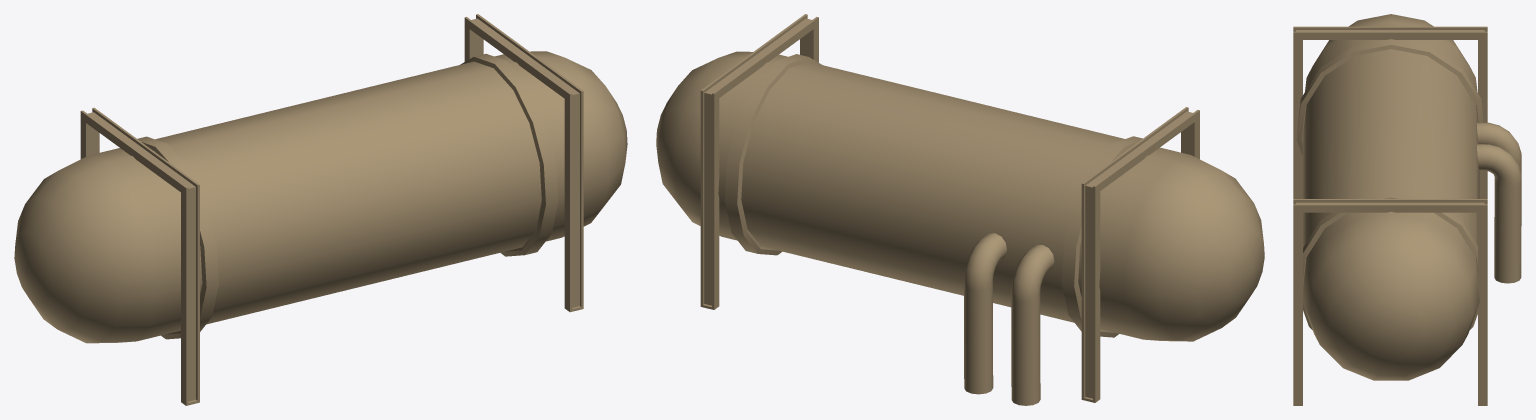
File: DamPropTankSide3.fbx
The picture shows the model from 3 angles, left to right: view 1: azimuth 30°, elevation 25°; view 2: azimuth 150°, elevation 25°; view 3: azimuth 270°, elevation 25°; orthographic projection. The views are drawn at different scales.
Parts seen in each view (by area): view 1: TankSideThree; view 2: TankSideThree; view 3: TankSideThree.
Part boxes in pixels (box(x1,y1,x2,y2)): TankSideThree: box(14, 14, 627, 405); TankSideThree: box(656, 14, 1264, 405); TankSideThree: box(1293, 14, 1521, 405).
Bounding box in the file's own units: 13.15 × 4.71 × 4.8.
